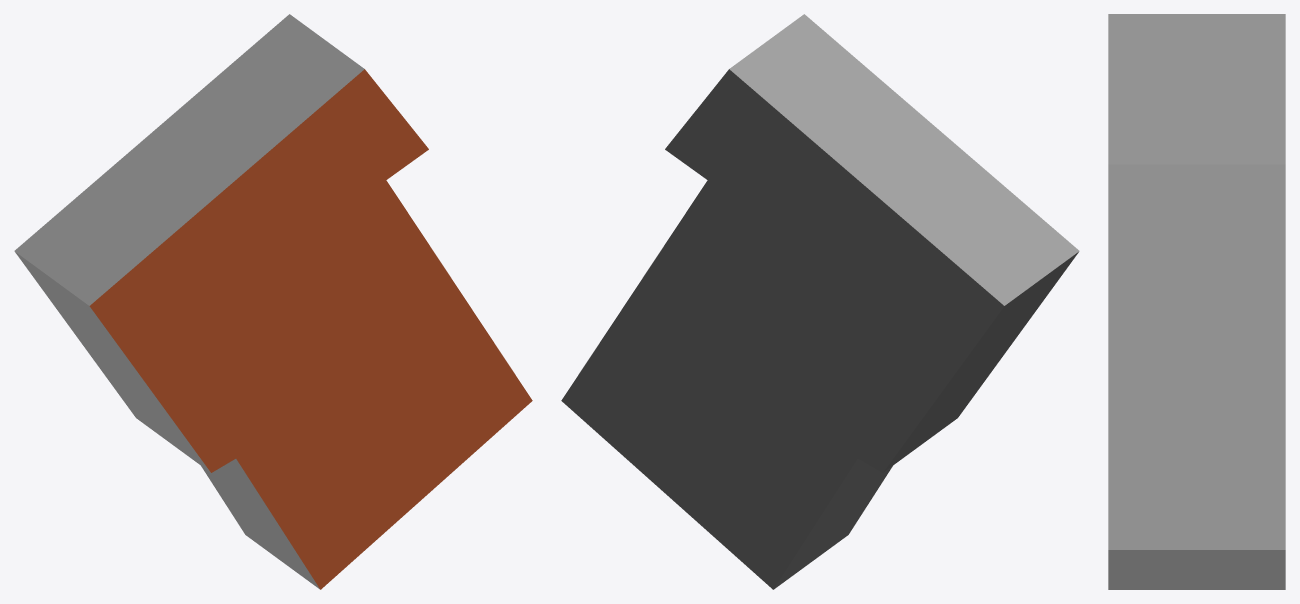
Rendered from construction_4884_assumed_A_Casa_h6m.obj.
3 views of the same model, side by side, from view 1: azimuth 30°, elevation 25°; view 2: azimuth 150°, elevation 25°; view 3: azimuth 270°, elevation 25° (orthographic). The views are drawn at different scales.
Parts seen in each view (by area): view 1: construction_4884_assumed_A_Casa; view 2: construction_4884_assumed_A_Casa; view 3: construction_4884_assumed_A_Casa.
Part boxes in pixels (x1,y1,x2,y2): construction_4884_assumed_A_Casa: (14,14,532,589); construction_4884_assumed_A_Casa: (561,14,1079,589); construction_4884_assumed_A_Casa: (1108,14,1285,589).
Bounding box in the file's own units: 20.41 × 22.45 × 6.
